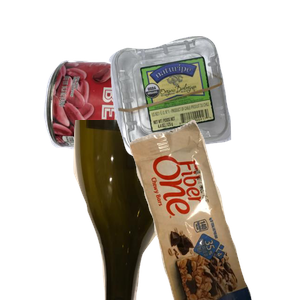glass: (71, 120, 254, 300)
metal: (41, 58, 240, 207)
plastic: (106, 34, 300, 183)
trash: (127, 120, 300, 300)
